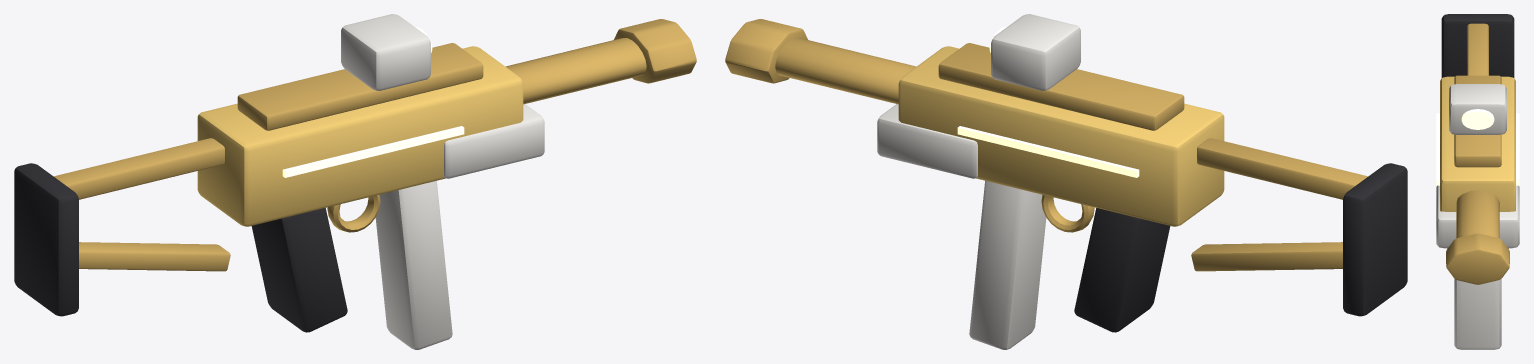
Rendered from SGP_SMG_Gilded.glb.
The picture shows the model from 3 angles, left to right: view 1: azimuth 30°, elevation 25°; view 2: azimuth 150°, elevation 25°; view 3: azimuth 270°, elevation 25°; orthographic projection. The views are drawn at different scales.
Visible parts, largest first — view 1: SGP_SMG_Gilded; view 2: SGP_SMG_Gilded; view 3: SGP_SMG_Gilded.
Boxes of the visible parts, x1,y1,x2,y2 form: SGP_SMG_Gilded: (14, 14, 696, 349); SGP_SMG_Gilded: (725, 14, 1407, 349); SGP_SMG_Gilded: (1436, 14, 1519, 349).
Bounding box in the file's own units: 0.5015 × 0.2349 × 0.0736.
